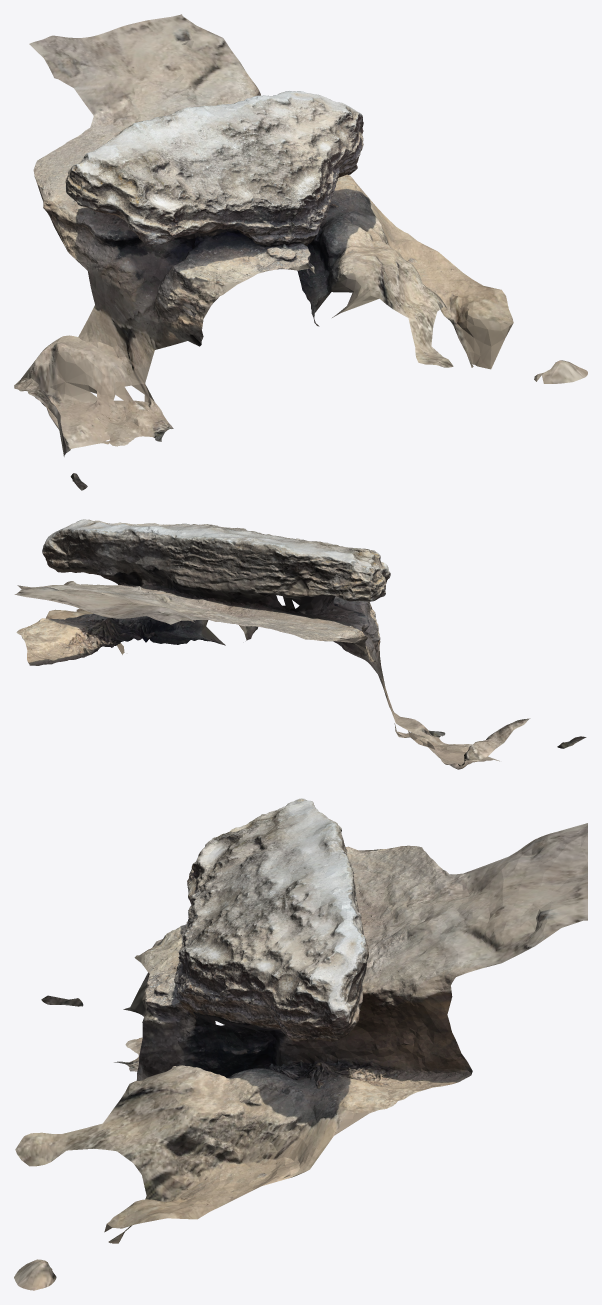
File: stone_3d_model_2025-10-19.glb
3 views of the same model, one above another, from view 1: azimuth 30°, elevation 25°; view 2: azimuth 150°, elevation 25°; view 3: azimuth 270°, elevation 25° (orthographic). The views are drawn at different scales.
Size of the model in its own units: 5.16 by 2.33 by 4.29.
Materials: 1 (1 with a texture image).
